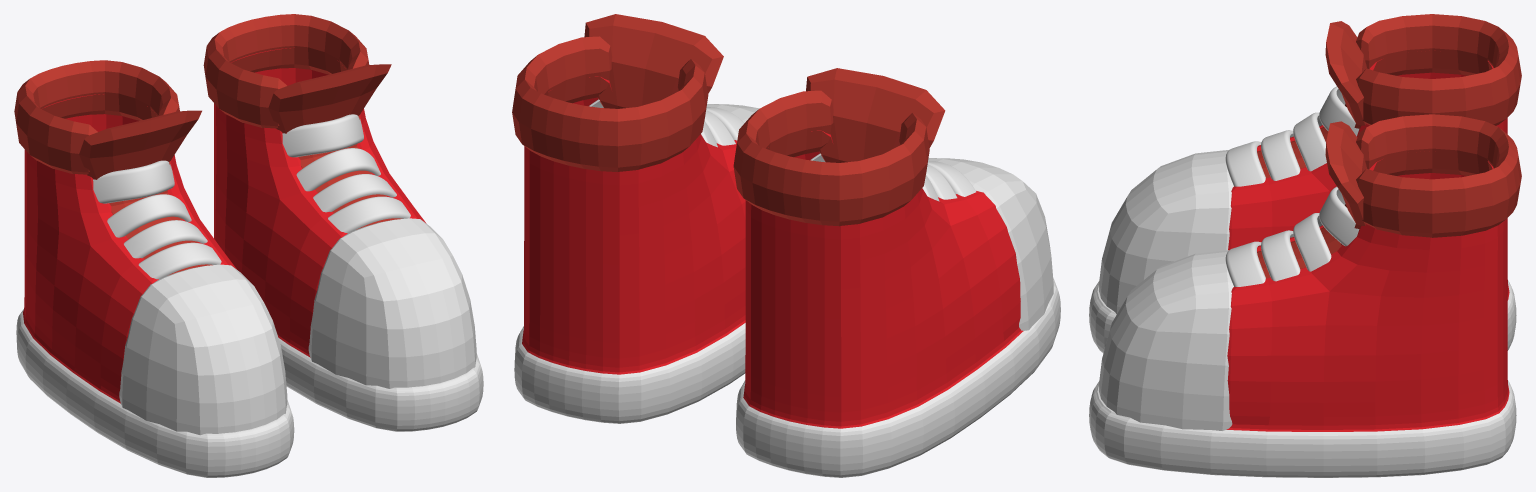
File: red-shoes.fbx
3 views of the same model, side by side, from view 1: azimuth 30°, elevation 25°; view 2: azimuth 150°, elevation 25°; view 3: azimuth 270°, elevation 25° (orthographic). The views are drawn at different scales.
Visible parts, largest first — view 1: Cube, Cube.004, Cube.007, Cube.003, Cube.002, Cube.006, Cube.001, Cube.005, NurbsPath.006, NurbsPath.002, NurbsPath.007, NurbsPath.003 (+4 smaller); view 2: Cube, Cube.004, Cube.002, Cube.006, Cube.001, Cube.005, Cube.003, NurbsPath.001; view 3: Cube.004, Cube.007, Cube.006, Cube.002, Cube.003, Cube, Cube.005, Cube.001, NurbsPath.004, NurbsPath.008, NurbsPath.007, NurbsPath.001 (+4 smaller).
Part boxes in pixels (x1,y1,x2,y2): Cube: (16, 94, 294, 477); Cube.004: (214, 47, 483, 431); Cube.007: (308, 218, 476, 388); Cube.003: (119, 264, 287, 435); Cube.002: (14, 60, 179, 174); Cube.006: (203, 14, 369, 128); Cube.001: (79, 110, 212, 275); Cube.005: (268, 64, 402, 229); NurbsPath.006: (282, 114, 363, 157); NurbsPath.002: (93, 160, 174, 203); NurbsPath.007: (296, 148, 380, 191); NurbsPath.003: (107, 194, 191, 237); Cube: (736, 130, 1060, 477); Cube.004: (514, 76, 745, 423); Cube.002: (733, 90, 929, 226); Cube.006: (512, 36, 708, 171); Cube.001: (806, 68, 945, 162); Cube.005: (584, 14, 723, 108); Cube.003: (928, 158, 1053, 330); NurbsPath.001: (927, 161, 976, 196); Cube.004: (1089, 159, 1516, 477); Cube.007: (1099, 250, 1233, 430); Cube.006: (1356, 114, 1521, 237); Cube.002: (1356, 14, 1521, 125); Cube.003: (1099, 150, 1233, 314); Cube: (1089, 59, 1516, 353); Cube.005: (1257, 121, 1367, 278); Cube.001: (1257, 21, 1367, 178); NurbsPath.004: (1261, 130, 1300, 180); NurbsPath.008: (1261, 230, 1300, 281); NurbsPath.007: (1293, 213, 1331, 271); NurbsPath.001: (1225, 141, 1265, 186).
Bounding box in the file's own units: 105 × 78.21 × 103.
